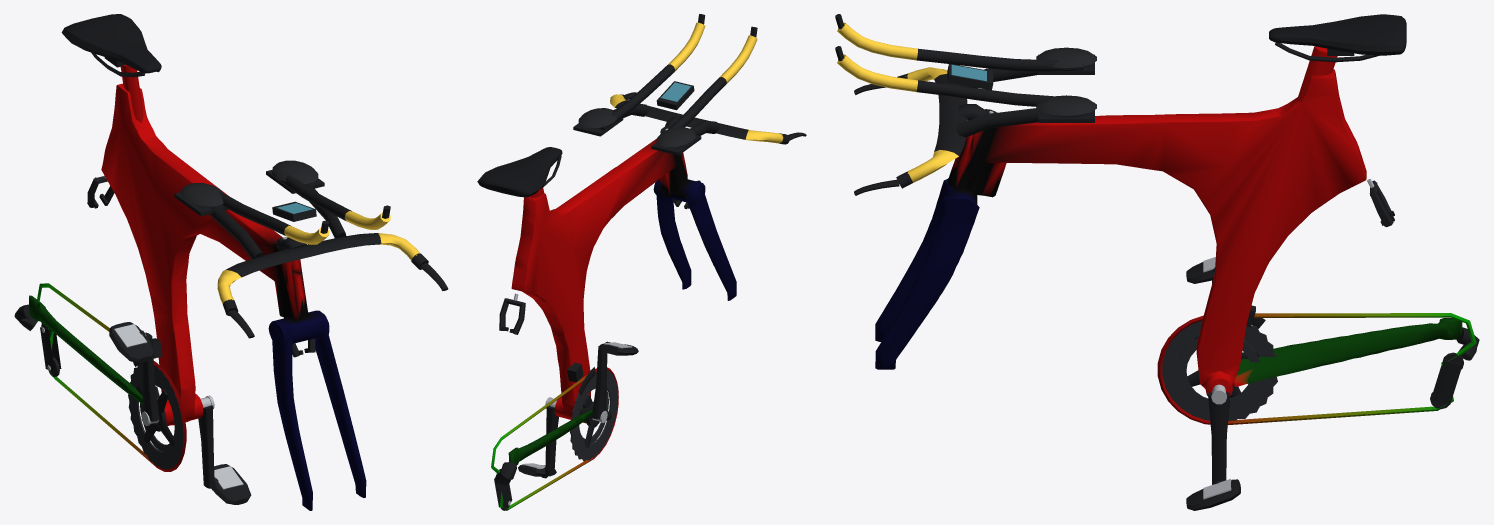
The model's file is lotus.glb.
The picture shows the model from 3 angles, left to right: view 1: azimuth 30°, elevation 25°; view 2: azimuth 150°, elevation 25°; view 3: azimuth 270°, elevation 25°; orthographic projection. The views are drawn at different scales.
Visible parts, largest first — view 1: frame, cockpit, crankset, saddle, pedal_R, opt_derailleur, pedal_L, opt_brakes_rim; view 2: frame, cockpit, crankset, saddle, opt_derailleur, opt_brakes_rim, pedal_R; view 3: frame, cockpit, crankset, saddle, opt_derailleur, pedal_L.
Part boxes in pixels (bbox=[...]): frame: bbox=[29, 64, 366, 510]; cockpit: bbox=[174, 160, 448, 338]; crankset: bbox=[128, 332, 214, 488]; saddle: bbox=[61, 14, 161, 77]; pedal_R: bbox=[109, 322, 154, 362]; opt_derailleur: bbox=[14, 304, 162, 376]; pedal_L: bbox=[211, 464, 251, 504]; opt_brakes_rim: bbox=[87, 176, 315, 357]; frame: bbox=[491, 138, 736, 510]; cockpit: bbox=[573, 14, 806, 155]; crankset: bbox=[545, 343, 618, 476]; saddle: bbox=[477, 147, 562, 197]; opt_derailleur: bbox=[494, 362, 595, 510]; opt_brakes_rim: bbox=[499, 199, 689, 334]; pedal_R: bbox=[600, 341, 638, 355]; frame: bbox=[875, 46, 1476, 424]; cockpit: bbox=[835, 14, 1096, 195]; crankset: bbox=[1162, 275, 1277, 484]; saddle: bbox=[1269, 14, 1406, 62]; opt_derailleur: bbox=[1246, 305, 1479, 409]; pedal_L: bbox=[1186, 479, 1240, 510].
Bounding box in the file's own units: 0.4423 × 0.8869 × 1.14.
